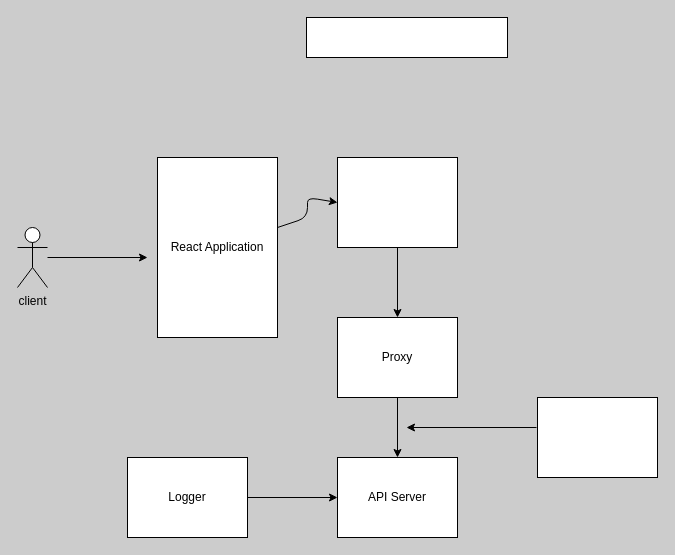
Some shapes in this 675 by 555 pixel diagram are drawn without their labels. The shapes that lost their labels are listed below. From the top down, each one's box as (x1, y1, x2, y2) in pixels, then its label:
(306, 16, 508, 58): WORKFLOW
(336, 156, 458, 248): UI Server
(536, 396, 658, 478): Request Handler
